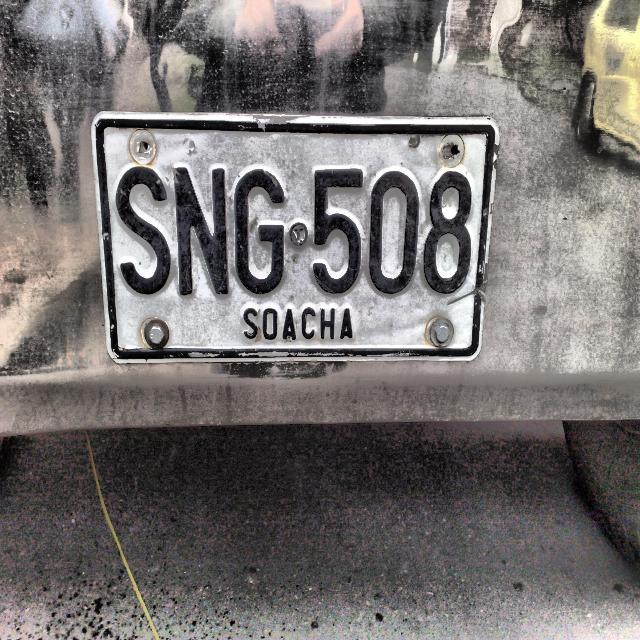plate: (90, 112, 499, 365)
